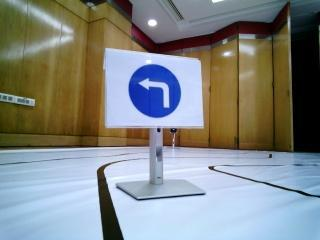left: (112, 53, 190, 125)
